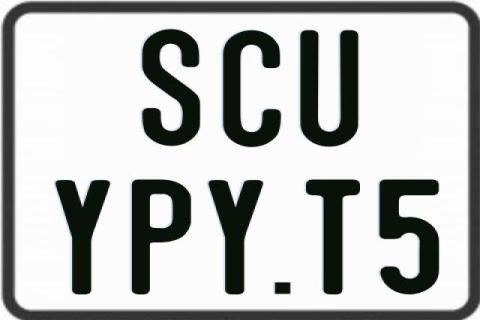0: (376, 180, 441, 298)
C: (220, 28, 284, 148)
P: (129, 179, 193, 295)
S: (142, 27, 206, 144)
T: (305, 177, 363, 297)
U: (300, 29, 363, 148)
Y: (205, 180, 264, 298), (54, 179, 112, 296)
